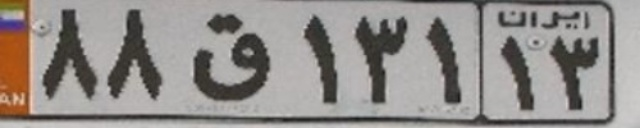1: (424, 16, 462, 104), (302, 13, 338, 102), (497, 33, 536, 110)
3: (353, 14, 409, 103), (548, 33, 600, 109)
8: (41, 7, 96, 98), (109, 7, 164, 97)
ghaf: (192, 12, 272, 99)
